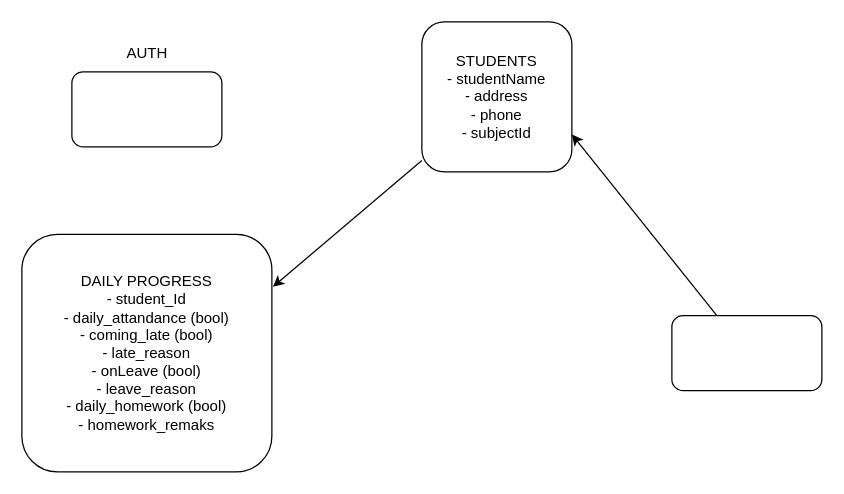
Image size: 844x494. Some labels were removed from this diagram. Each missing label, with the centre of its shape:
"SUBJECT - subjectName" goes at [746,352].
"USER - username - password" goes at [146,109].
